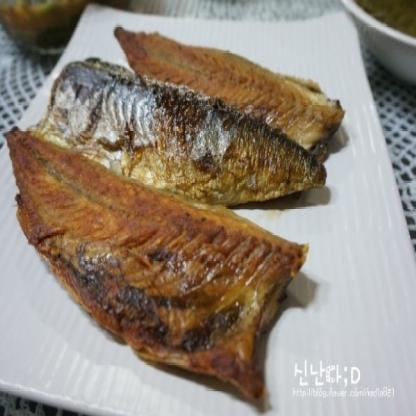Peixe: (0, 26, 354, 393)
